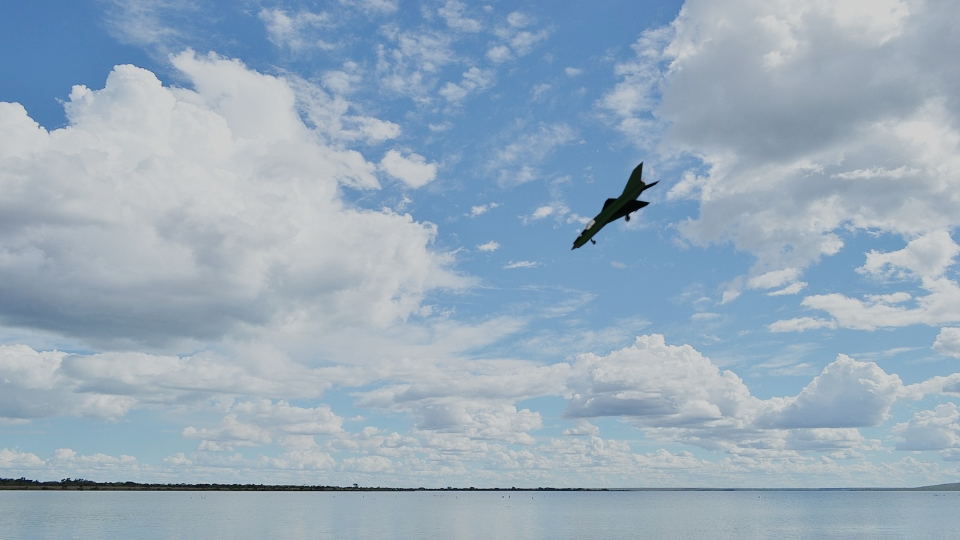plane: (568, 161, 660, 250)
